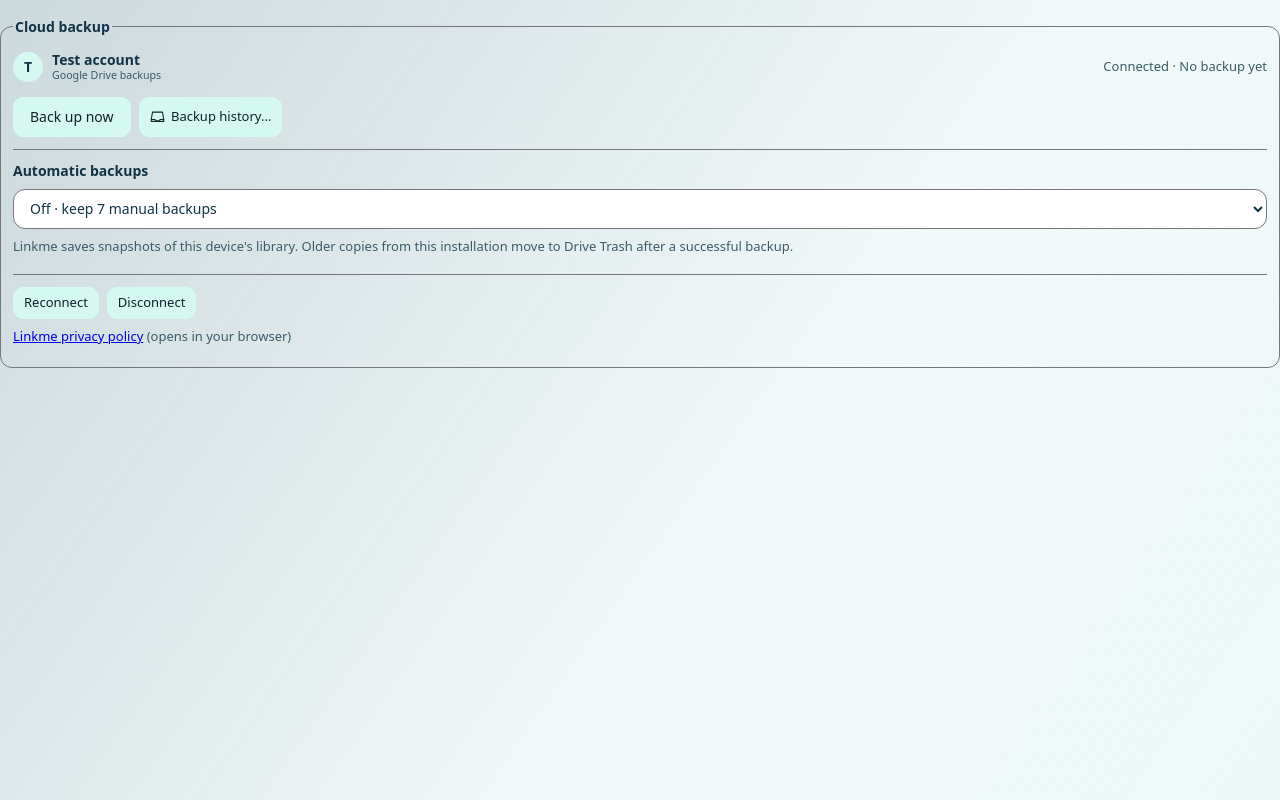
Test: reports the privacy policy opener error without altering the backup controls
Click the link "Linkme privacy policy" at x=78, y=336, box [13,327,143,345]
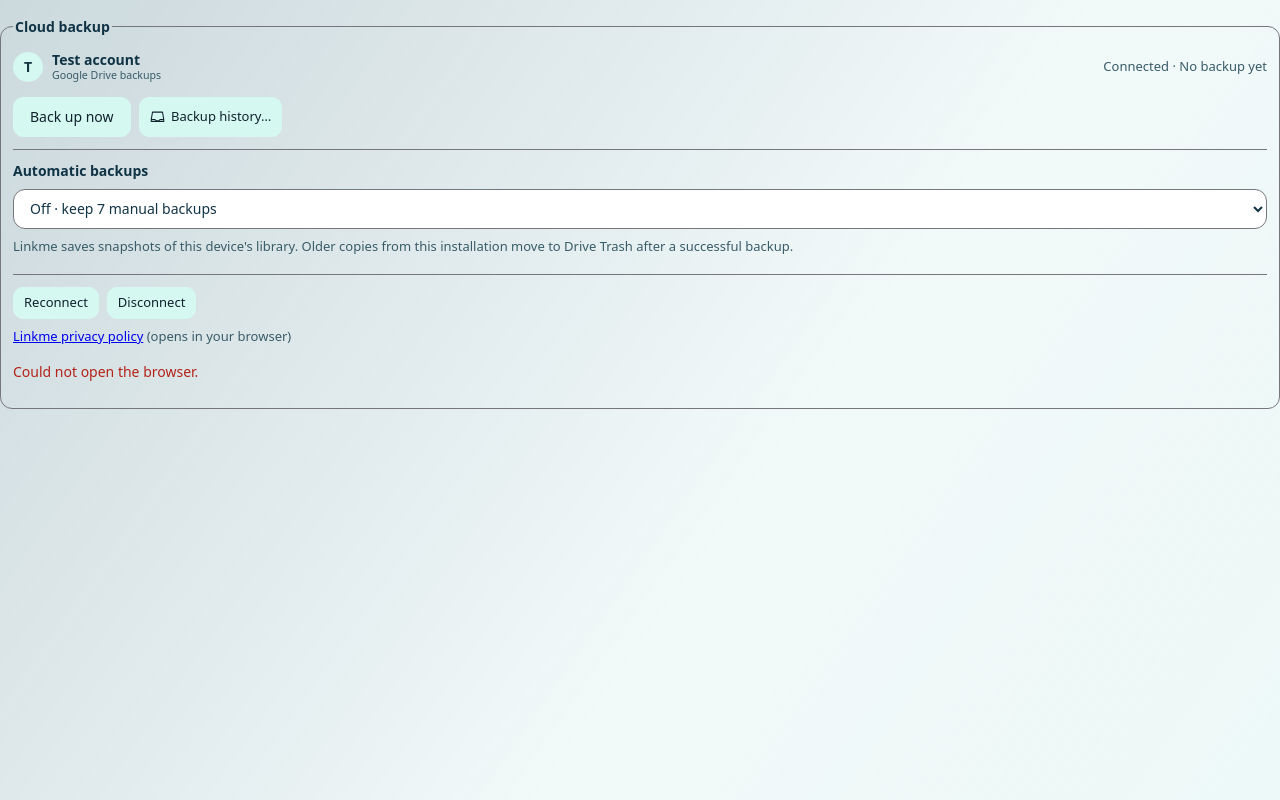
Expected: the button "Back up now" is enabled, [13,96,130,136]
Expected: the message reads "Could not open the browser.", [13,362,198,380]
